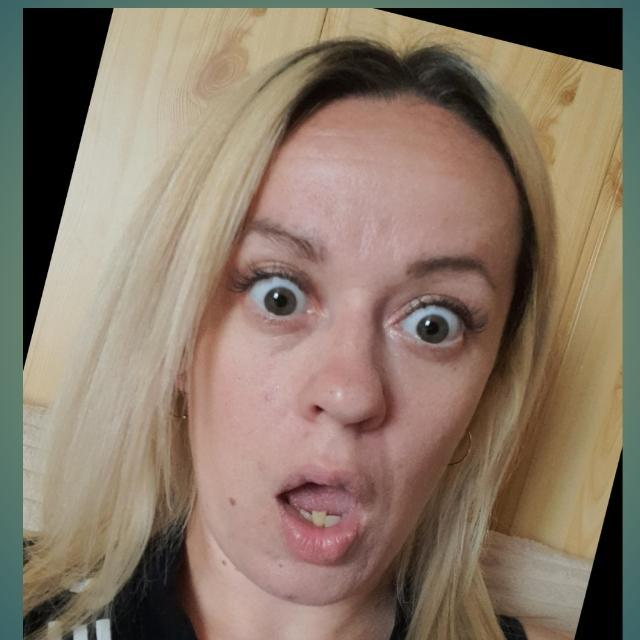surprised: (80, 59, 515, 584)
